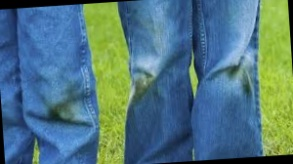earth: (233, 66, 255, 92), (131, 76, 154, 99), (47, 103, 71, 122)
